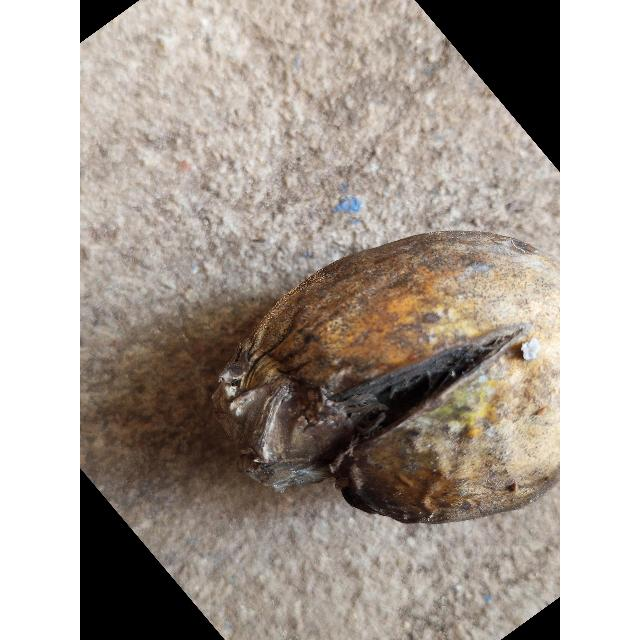damaged: (218, 228, 560, 528)
